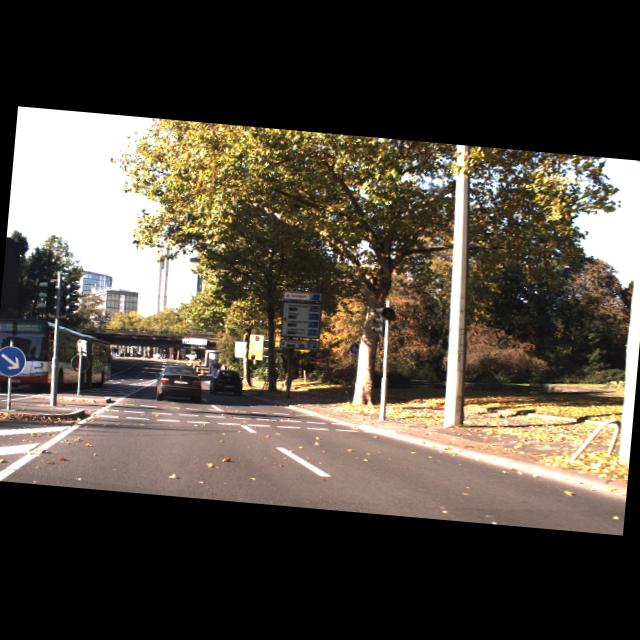mandatory: (0, 343, 27, 376)
